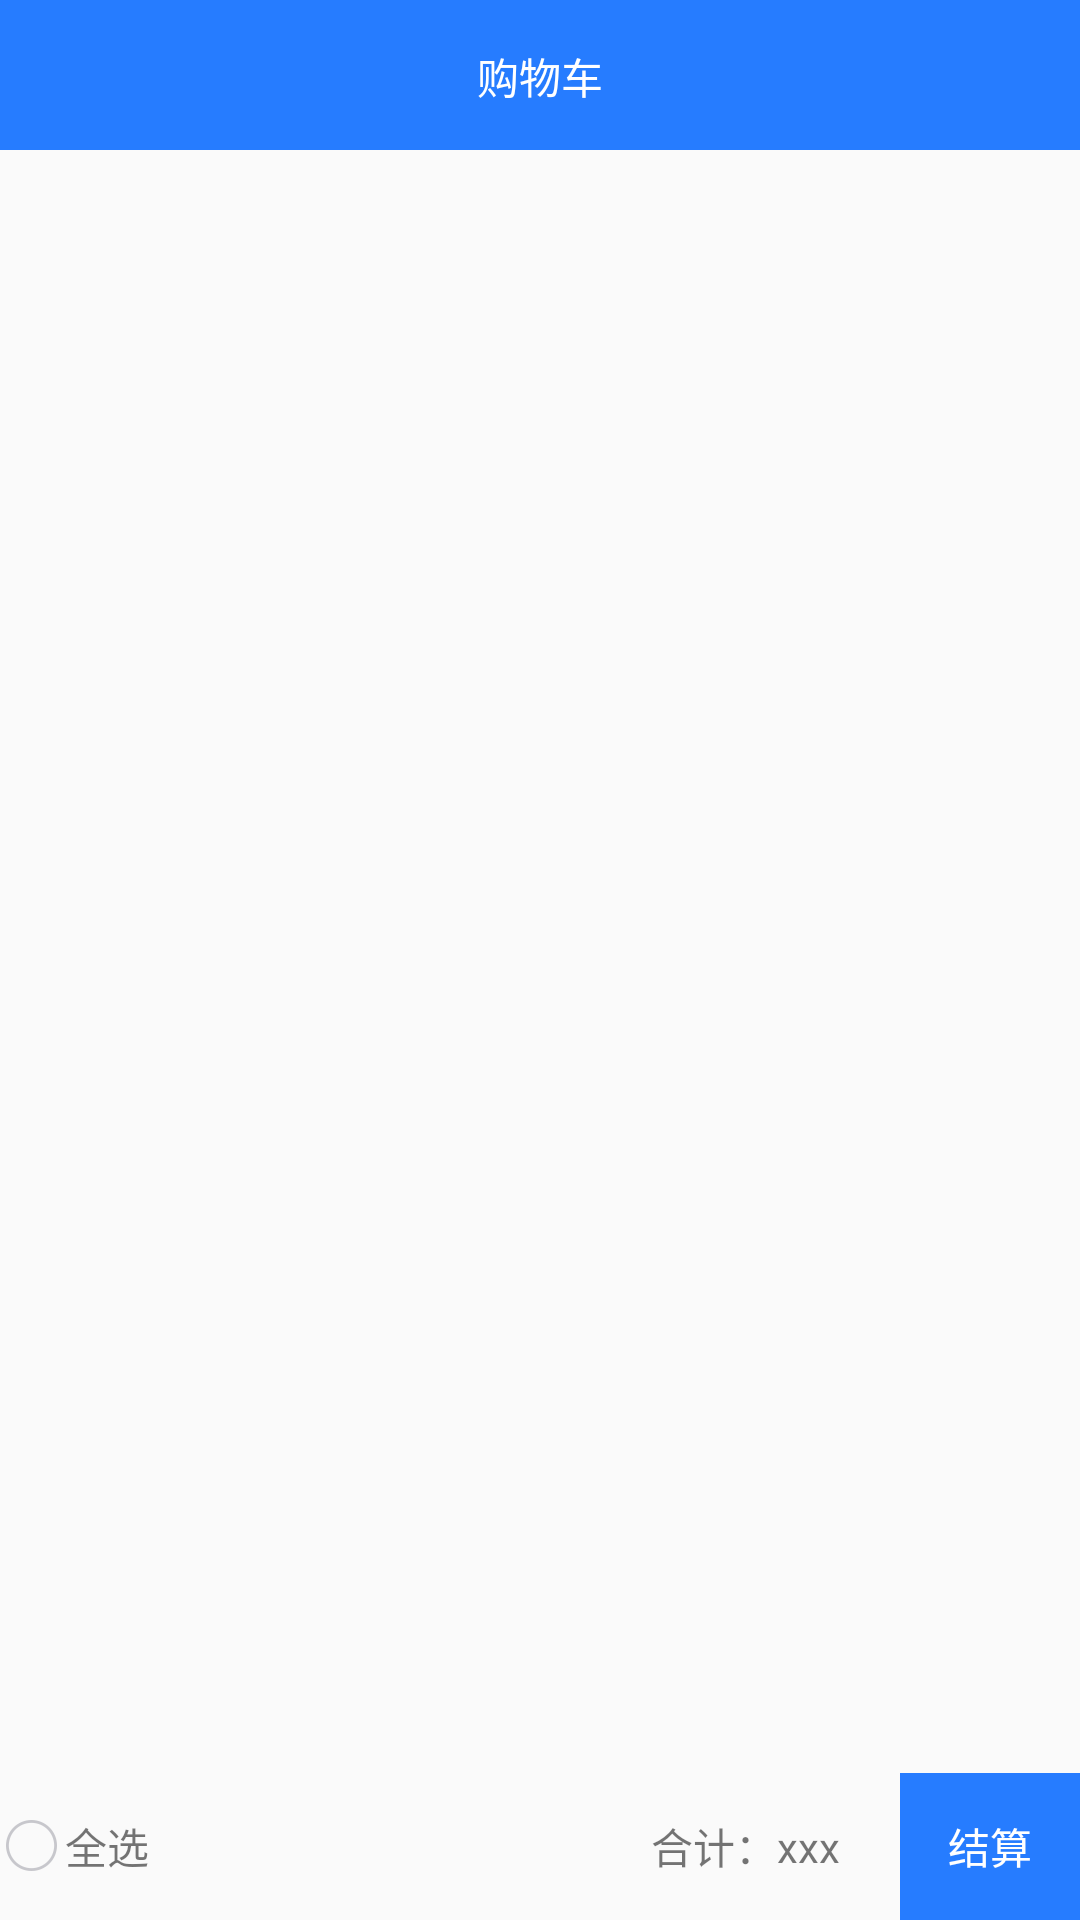

Icon bounding boxes for this 1080x1920 phone screenshot, format (x1, y1, x2, y2):
pay choose nor: (6, 1820, 57, 1871)
